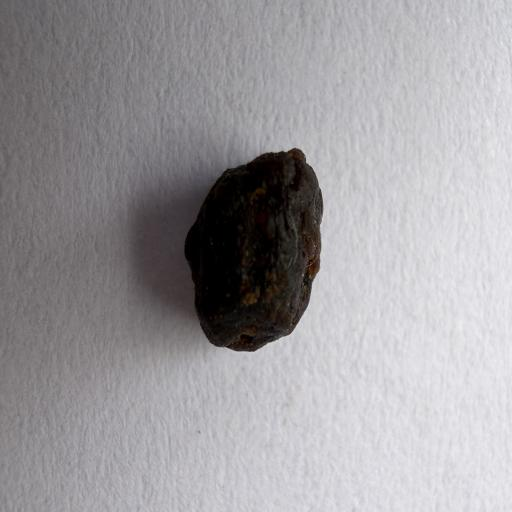Black_pepper: (183, 113, 330, 364)
